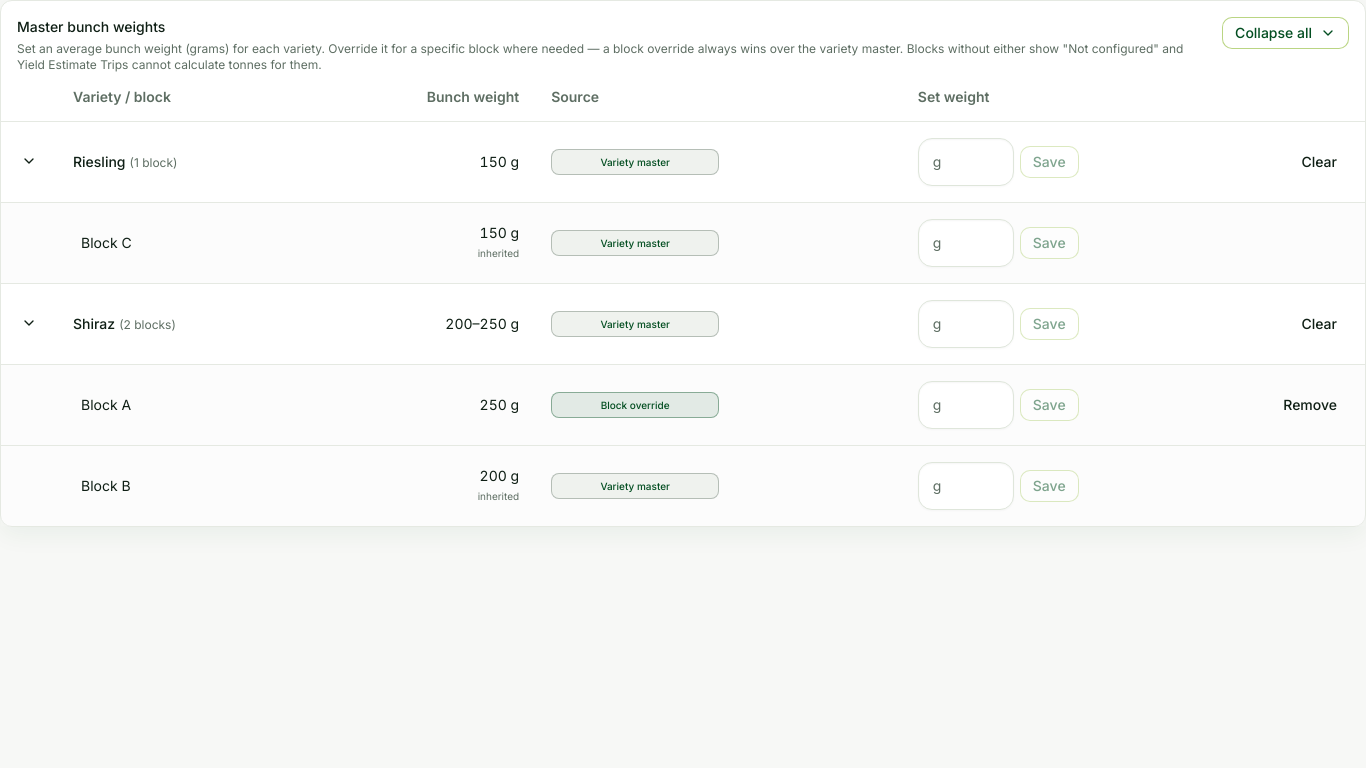
Scenario: Bunch Weights roll-up › keeps per-variety chevrons independent of the expand-all state
Click the button named "Collapse Shiraz blocks": (29, 323) [17, 311, 41, 335]
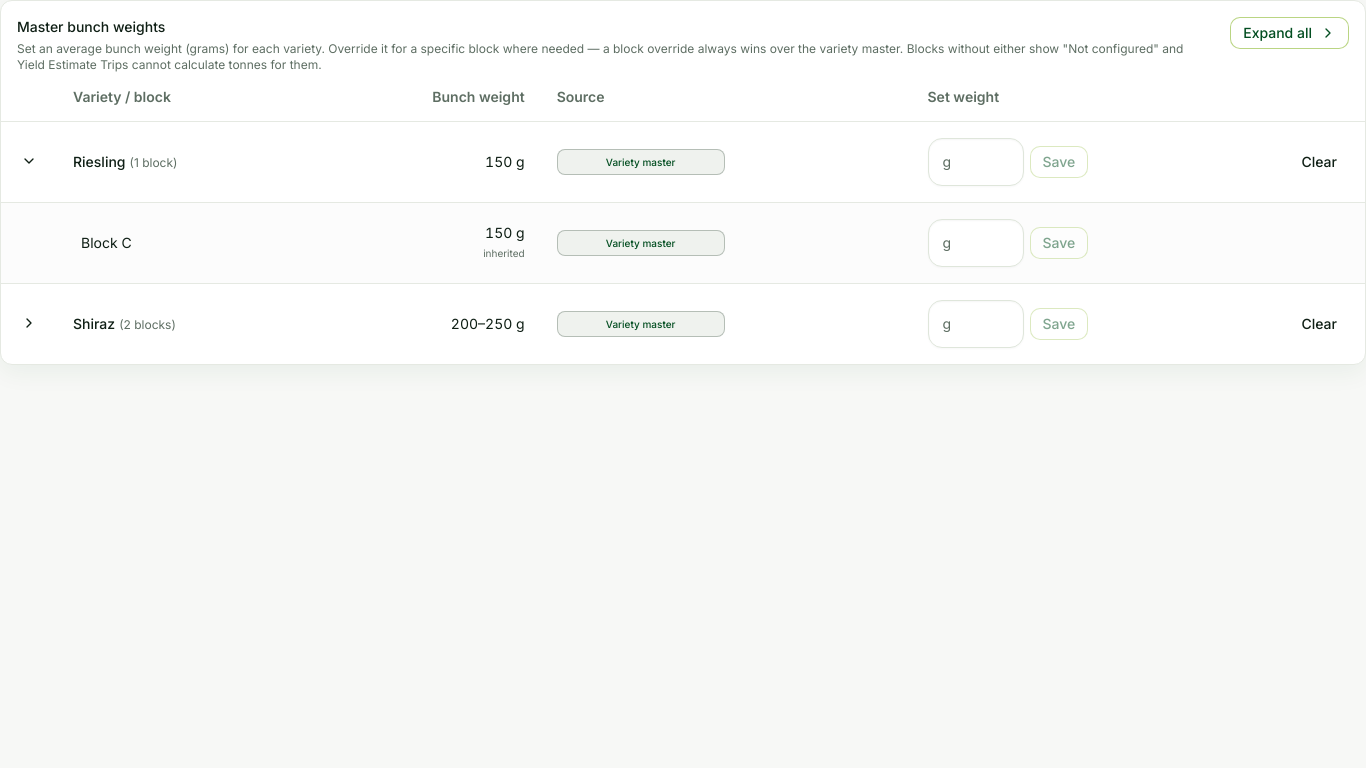
Expected: the text "Block C" is shown, [57, 202, 310, 283]
Result: the text "Block A" is gone
Expand all brings every section back, including the manually collapsed one.
Click the button with test id "bunch-weights-expand-all": (1290, 33) [1230, 17, 1349, 49]
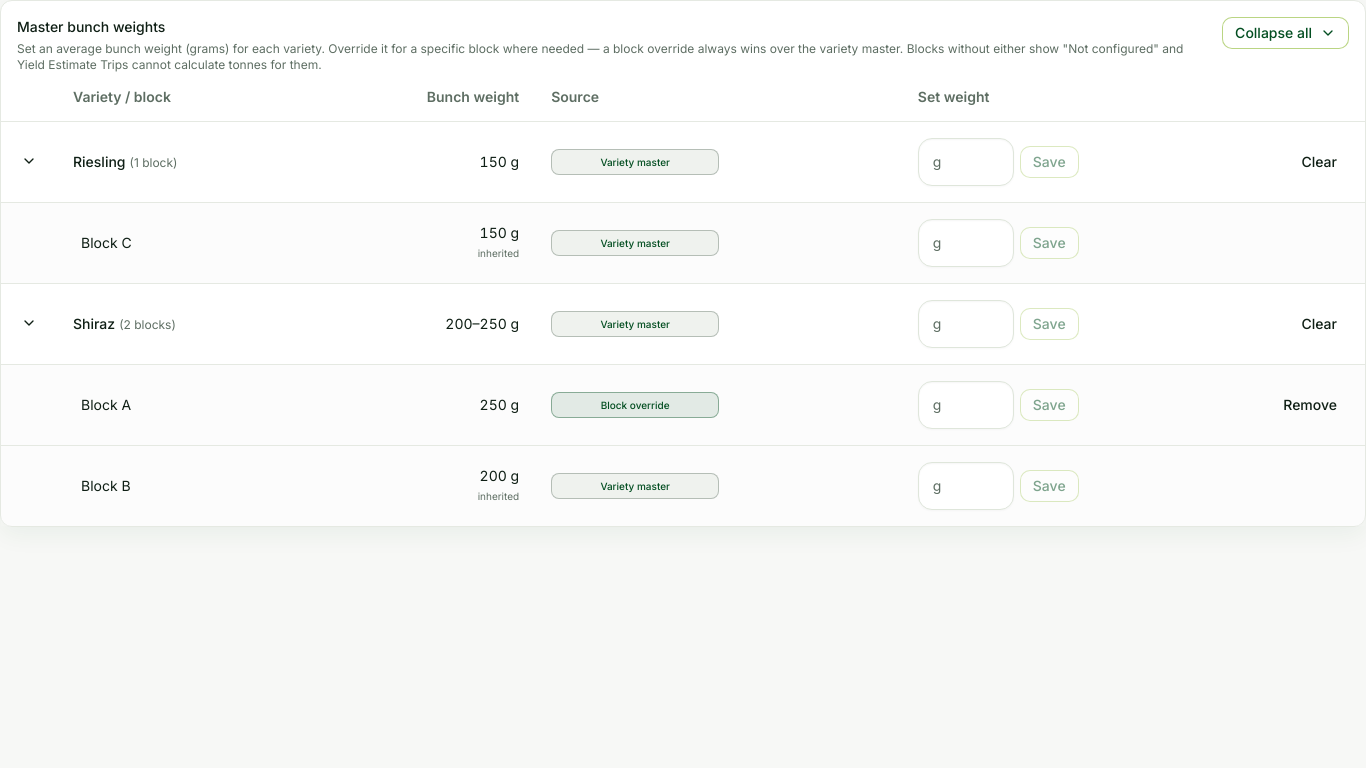
Expected: the text "Block C" is shown, [57, 202, 307, 283]
Result: the text "Block A" is shown at [57, 364, 307, 445]
